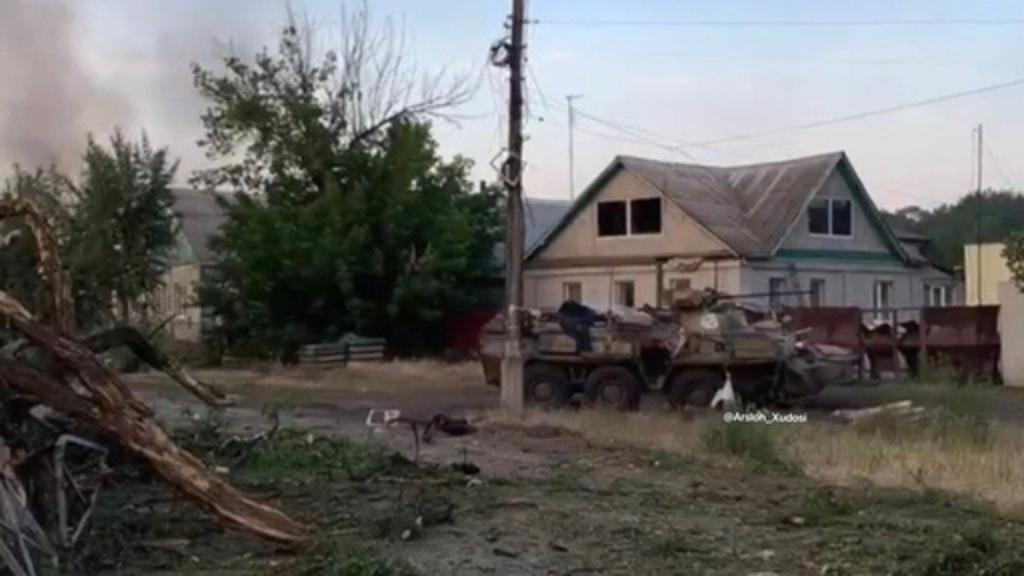APC-IFV: (484, 270, 854, 426)
